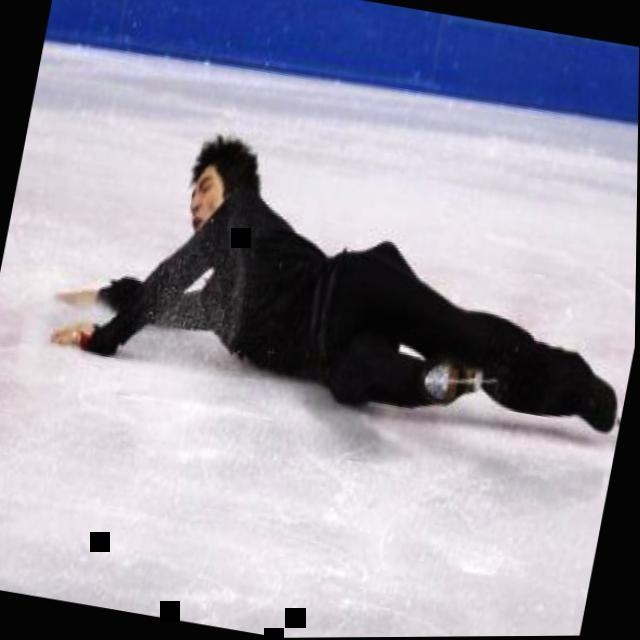Fall-Detected: (51, 72, 639, 465)
